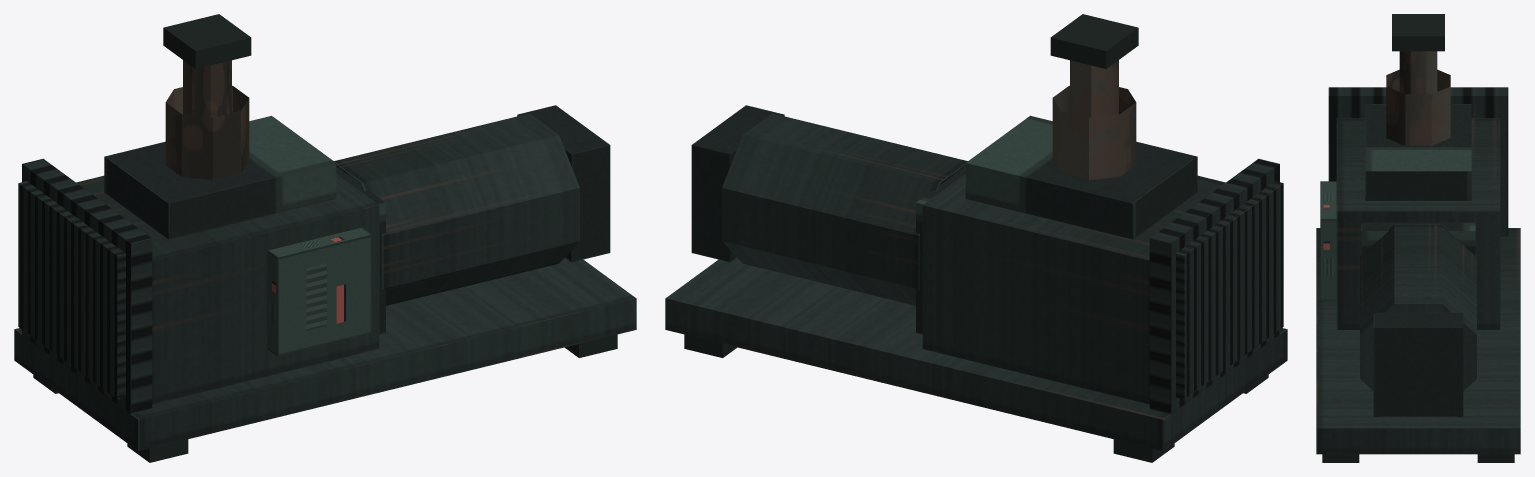
File: SM_MachProp_Generator_Diesel_240x100x160.fbx
3 renders of one model, left to right at view 1: azimuth 30°, elevation 25°; view 2: azimuth 150°, elevation 25°; view 3: azimuth 270°, elevation 25°, orthographic. The views are drawn at different scales.
Parts seen in each view (by area): view 1: SM_MachProp_Generator_Diesel_240x100x160.001; view 2: SM_MachProp_Generator_Diesel_240x100x160.001; view 3: SM_MachProp_Generator_Diesel_240x100x160.001.
Boxes of the visible parts, <box> form: SM_MachProp_Generator_Diesel_240x100x160.001: <box>14,14,636,462</box>; SM_MachProp_Generator_Diesel_240x100x160.001: <box>665,14,1287,462</box>; SM_MachProp_Generator_Diesel_240x100x160.001: <box>1316,14,1520,462</box>.
Size of the model in its own units: 2.4 by 1.6 by 1.
